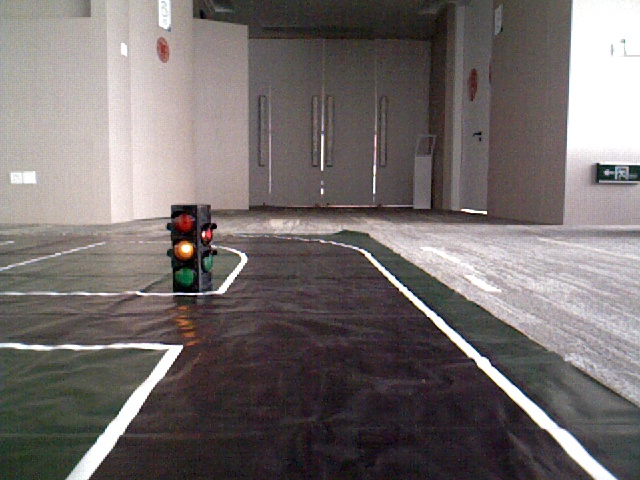yellow: (171, 209, 199, 286)
